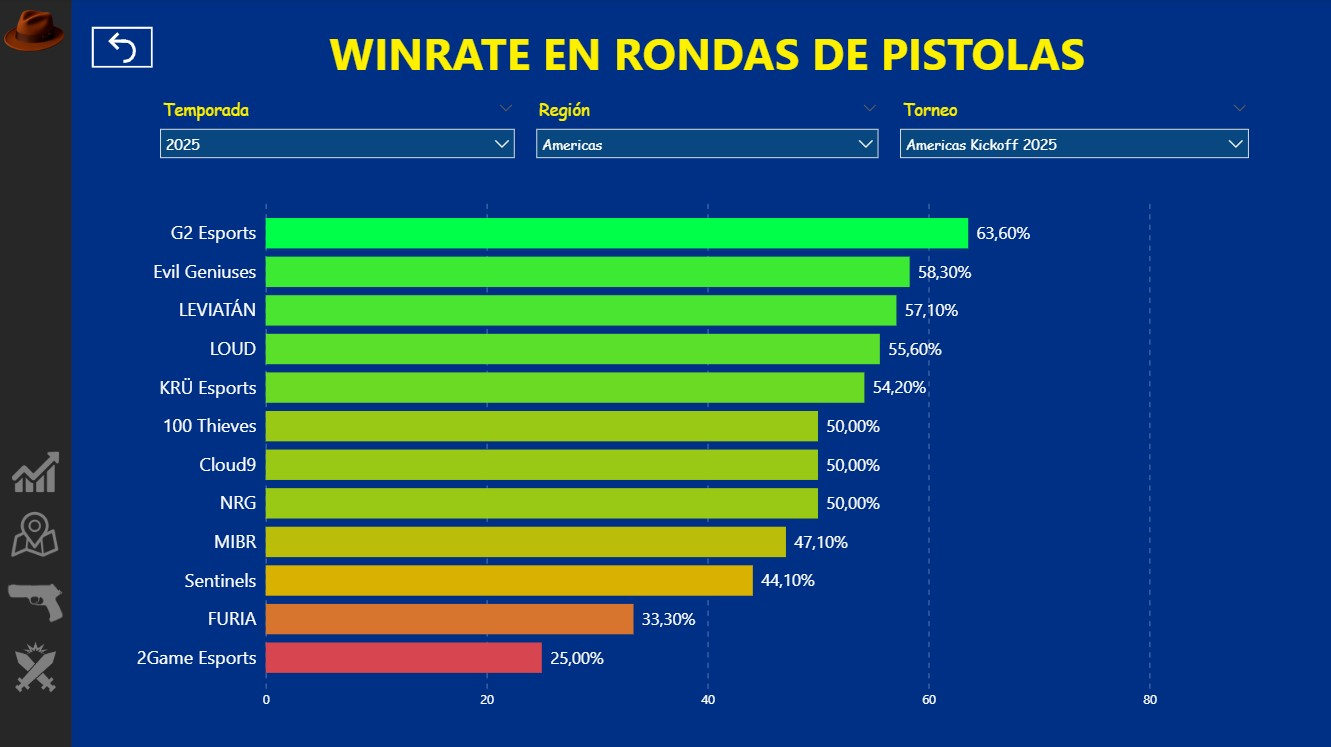

This screenshot's page, from the dashboard's own definition file:
{"tool":"powerbi","page":{"name":"Pistolas","canvas":[1280,720],"ordinal":2},"visuals":[{"type":"shape","box":[0,0,70.7,720.3],"z":0},{"type":"image","box":[0,0,70.7,68.3],"z":1000},{"type":"image","box":[13.2,431.5,45.5,45.5],"z":2000},{"type":"image","box":[10.8,486.6,49.1,55.1],"z":3000},{"type":"image","box":[8.4,541.7,55.1,76.7],"z":4000},{"type":"image","box":[6,598.1,59.9,89.9],"z":5000},{"type":"slicer","fields":{"Values":["competitions.season"]},"box":[145,91.1,360.7,82.7],"z":6000},{"type":"slicer","fields":{"Values":["competitions.region"]},"box":[505.8,91.1,348.8,93.5],"z":7000},{"type":"slicer","fields":{"Values":["competitions.name"]},"box":[854.5,91.1,354.8,82.7],"z":8000},{"type":"barChart","fields":{"Category":["vct_stats_gg vw_pistol_winrate_teams.equipo"],"Y":["Sum(vw_pistol_winrate_teams.winrate_pistolas)"]},"box":[124.6,183.4,1112.2,508.2],"z":9000},{"type":"textbox","box":[274.5,18,811.4,73.1],"z":10000},{"type":"actionButton","box":[89.9,27.6,58.7,39.6],"z":11000}]}

Visuals, with their boxes on the page's 1280x720 design canvas (x1, y1, x2, y2). These are canvas units, not pixel positions in the 1331x747 screenshot, which may show the page scaled, cropped or inside an application window:
shape: {"left": 0, "top": 0, "right": 71, "bottom": 720}
image: {"left": 0, "top": 0, "right": 71, "bottom": 68}
image: {"left": 13, "top": 432, "right": 59, "bottom": 477}
image: {"left": 11, "top": 487, "right": 60, "bottom": 542}
image: {"left": 8, "top": 542, "right": 64, "bottom": 618}
image: {"left": 6, "top": 598, "right": 66, "bottom": 688}
slicer - competitions.season: {"left": 145, "top": 91, "right": 506, "bottom": 174}
slicer - competitions.region: {"left": 506, "top": 91, "right": 855, "bottom": 185}
slicer - competitions.name: {"left": 854, "top": 91, "right": 1209, "bottom": 174}
barChart - vct_stats_gg vw_pistol_winrate_teams.equipo x Sum(vw_pistol_winrate_teams.winrate_pistolas): {"left": 125, "top": 183, "right": 1237, "bottom": 692}
textbox: {"left": 274, "top": 18, "right": 1086, "bottom": 91}
actionButton: {"left": 90, "top": 28, "right": 149, "bottom": 67}
